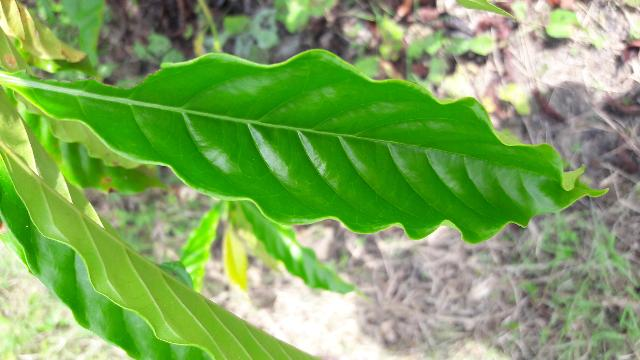healthy: (0, 50, 602, 243)
